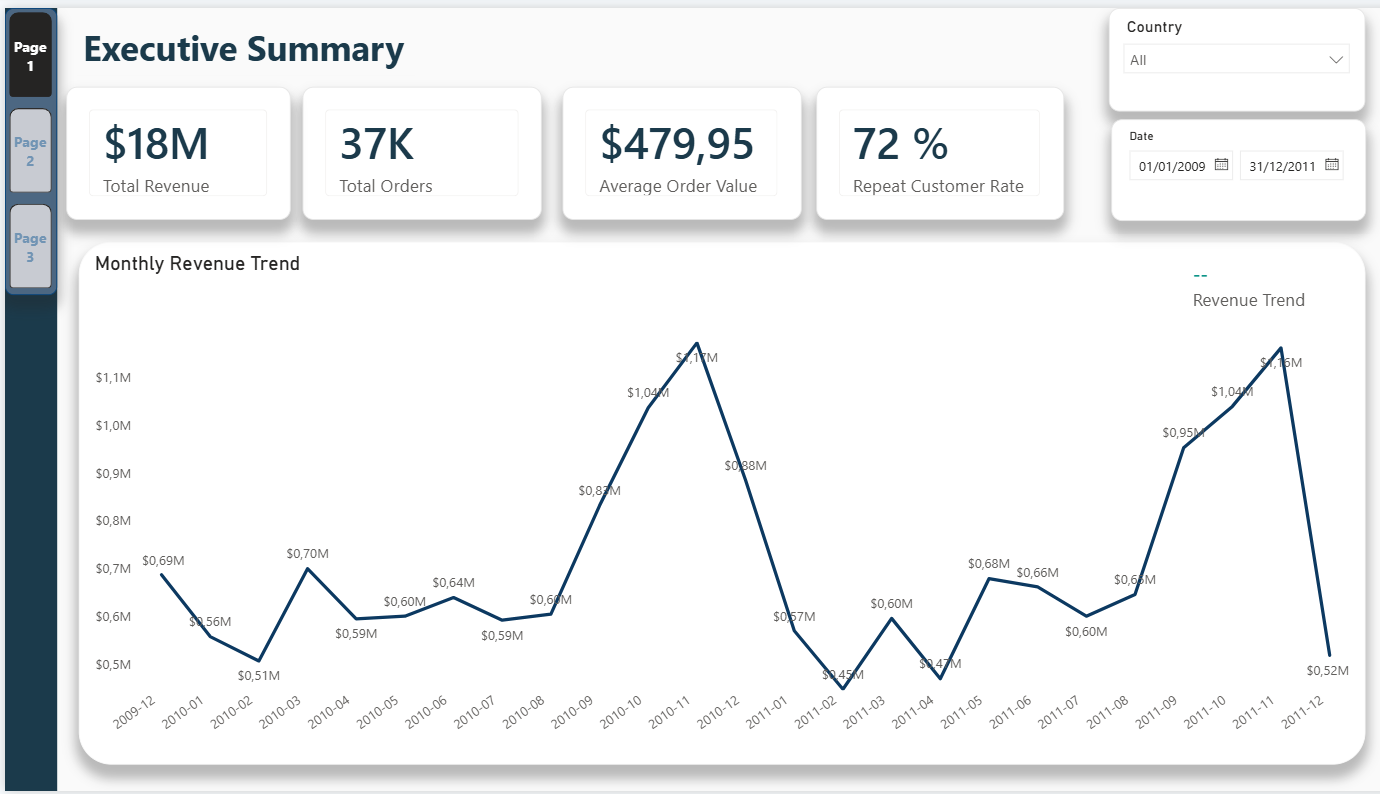

This screenshot's page, from the dashboard's own definition file:
{"tool":"powerbi","page":{"name":"Page 1","canvas":[1280,720],"ordinal":0},"visuals":[{"type":"cardVisual","fields":{"Data":["online_retail_cleaned.Repeat Customer Rate"]},"box":[746.1,72.4,227.7,122.8],"z":1000},{"type":"cardVisual","fields":{"Data":["online_retail_cleaned.Total Orders"]},"box":[273.9,72.4,220.4,122.8],"z":2000},{"type":"slicer","fields":{"Values":["online_retail_cleaned.Country"]},"box":[1015.3,0,235.7,95.2],"z":3000},{"type":"lineChart","title":"Monthly Revenue Trend","fields":{"Y":["online_retail_cleaned.Total Revenue"],"Category":["Calendario.Año-Mes"]},"box":[68,215.3,1183,480.5],"z":4000},{"type":"textbox","box":[67,9,310,53],"z":5000},{"type":"shape","box":[0,0,48,720],"z":6000},{"type":"pageNavigator","box":[0,0,47.6,264.3],"z":7000},{"type":"cardVisual","fields":{"Data":["online_retail_cleaned.Total Revenue"]},"box":[56.7,72.4,206.7,122.8],"z":8000},{"type":"cardVisual","fields":{"Data":["online_retail_cleaned.Average Order Value"]},"box":[512.1,72.4,219.8,122.4],"z":9000},{"type":"cardVisual","fields":{"Data":["online_retail_cleaned.Revenue Trend"]},"box":[1062.2,215.1,170.6,79.7],"z":10000},{"type":"slicer","fields":{"Values":["Calendario.Date"]},"box":[1017.6,102,234.1,93.6],"z":11000}]}

Visuals, with their boxes on the page's 1280x720 design canvas (x1, y1, x2, y2). These are canvas units, not pixel positions in the 1380x794 screenshot, which may show the page scaled, cropped or inside an application window:
cardVisual - online_retail_cleaned.Repeat Customer Rate: 746,72,974,195
cardVisual - online_retail_cleaned.Total Orders: 274,72,494,195
slicer - online_retail_cleaned.Country: 1015,0,1251,95
"Monthly Revenue Trend" lineChart: 68,215,1251,696
textbox: 67,9,377,62
shape: 0,0,48,720
pageNavigator: 0,0,48,264
cardVisual - online_retail_cleaned.Total Revenue: 57,72,263,195
cardVisual - online_retail_cleaned.Average Order Value: 512,72,732,195
cardVisual - online_retail_cleaned.Revenue Trend: 1062,215,1233,295
slicer - Calendario.Date: 1018,102,1252,196
